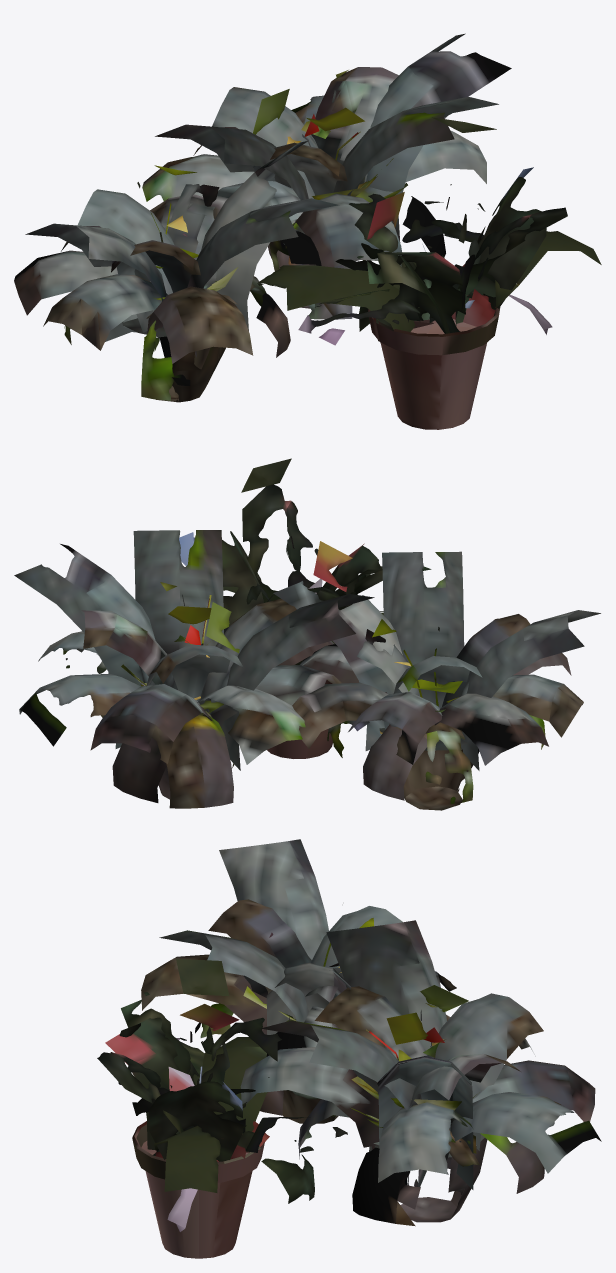
File: prop_static_55866.fbx
The picture shows the model from 3 angles, top to bottom: view 1: azimuth 30°, elevation 25°; view 2: azimuth 150°, elevation 25°; view 3: azimuth 270°, elevation 25°; orthographic projection. The views are drawn at different scales.
Parts seen in each view (by area): view 1: prop_static_55866; view 2: prop_static_55866; view 3: prop_static_55866.
Boxes of the visible parts, x1,y1,x2,y2 form: prop_static_55866: (14,33,601,429); prop_static_55866: (14,458,600,810); prop_static_55866: (97,839,601,1258).
Size of the model in its own units: 12473 by 7083 by 12088.
